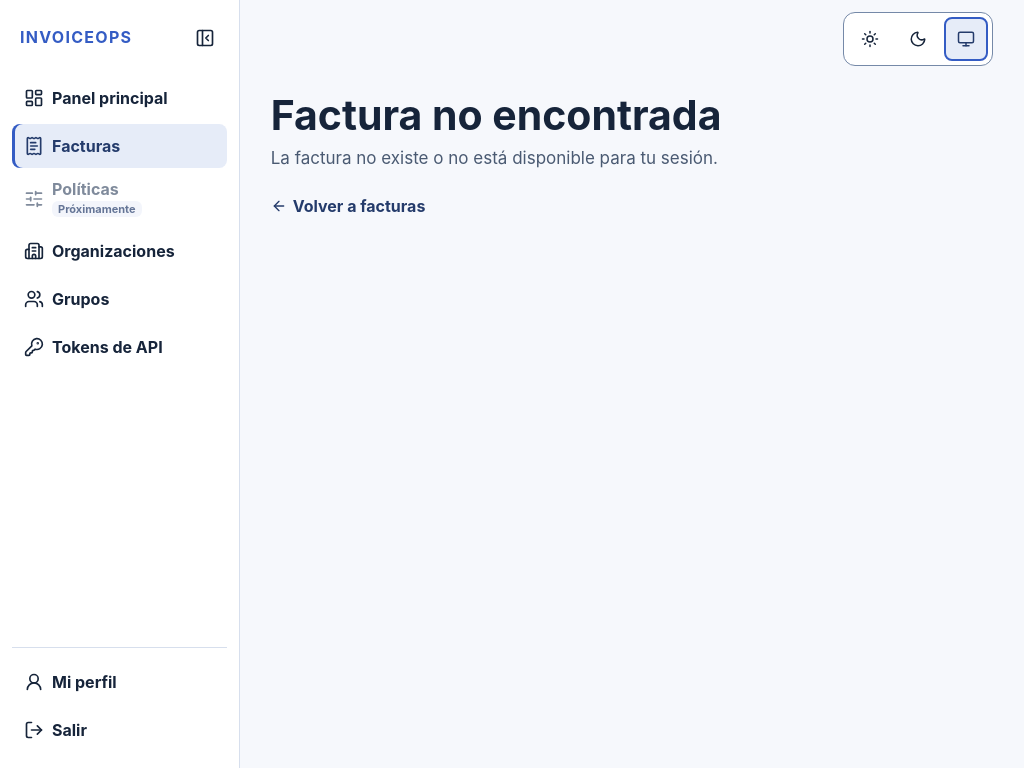
Test: invoice detail (AC-19) › answers 404 with «Factura no encontrada» and a link back, and drops the entry on leaving (CR-381)
This screenshot has width=1024, height=768.
Expected: the heading "Factura no encontrada" is shown, [271,90,721,140]
Leaving the screen drops it.
Click the link "Volver a facturas" at (348, 206), box [271,196,425,216]
(page scrolled)
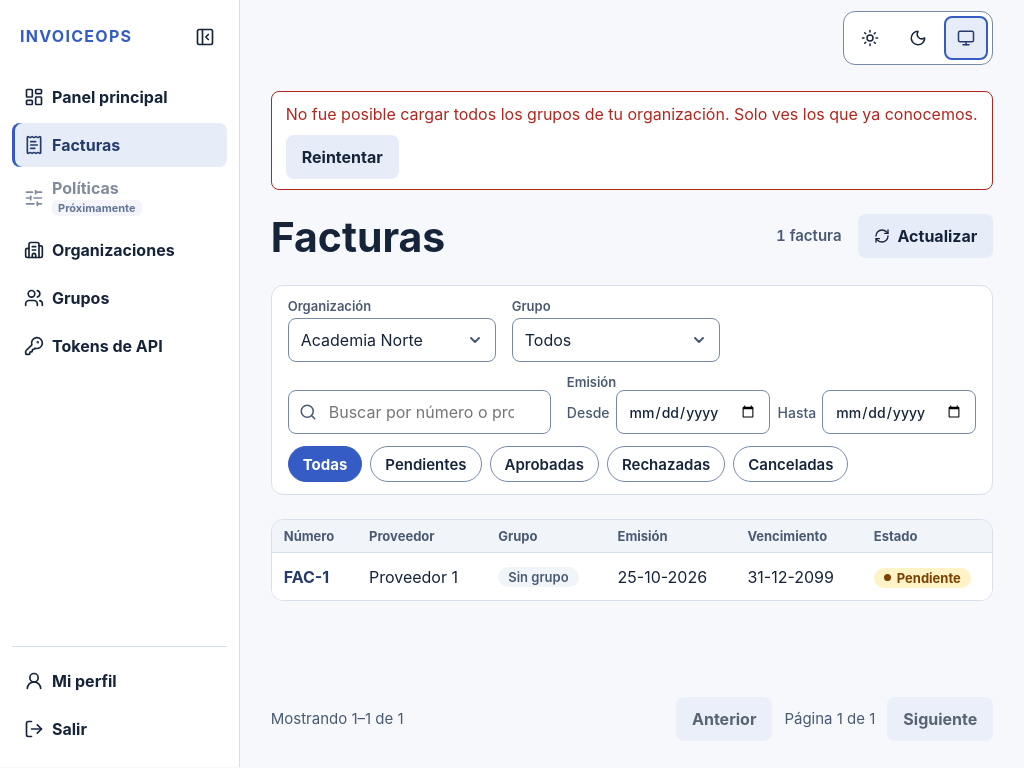
Now the table named "Facturas" is shown, box [272,520,993,600]
